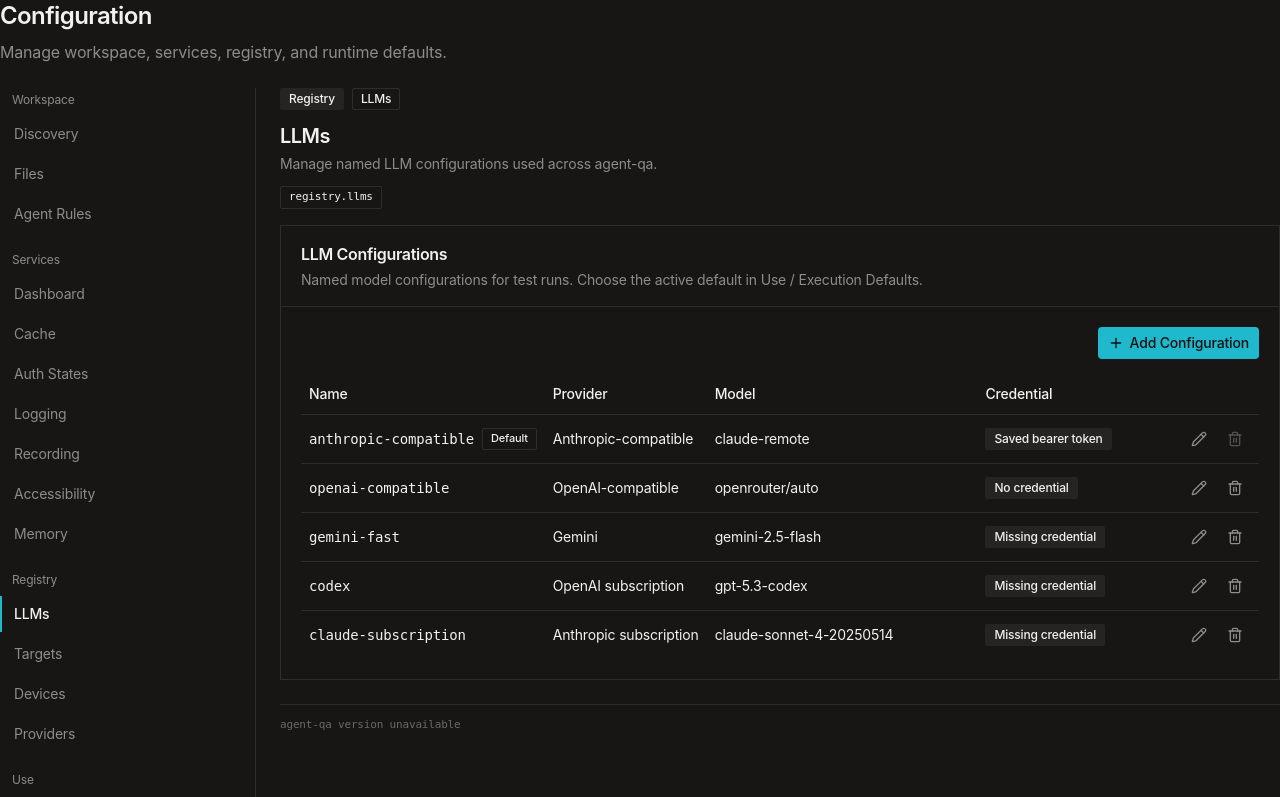
Test: ConfigPage schema coverage › confirms credential deletion before deleting
The image size is (1280, 797).
Check: the row that starts with "anthropic-compatible" is shown, box [301,414,1259,464]
Click the button titled "Edit configuration" in the row of "claude-remote".
click(1199, 439)  # box [1183,423,1215,455]
(page scrolled)
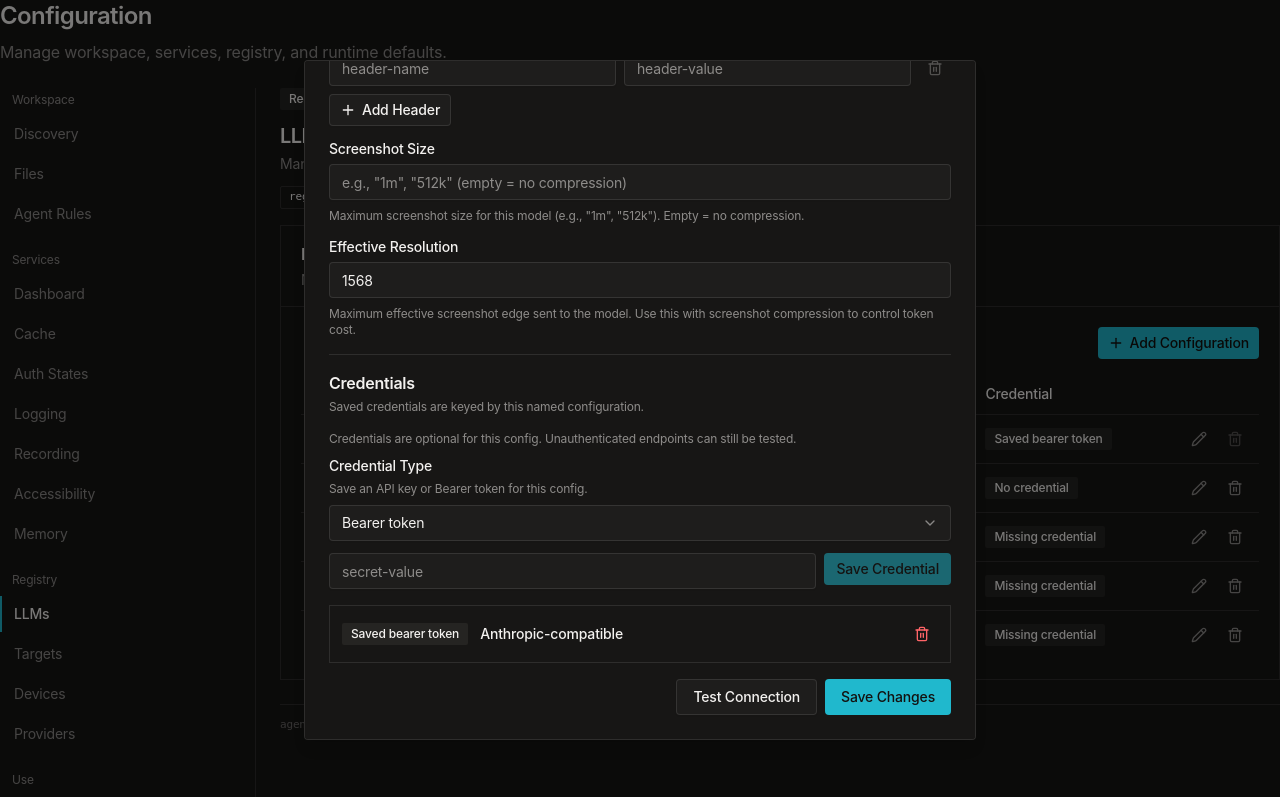
Check: the button named "Delete credential" is shown
Click the button named "Delete credential".
click(922, 634)  # box [906,618,938,650]
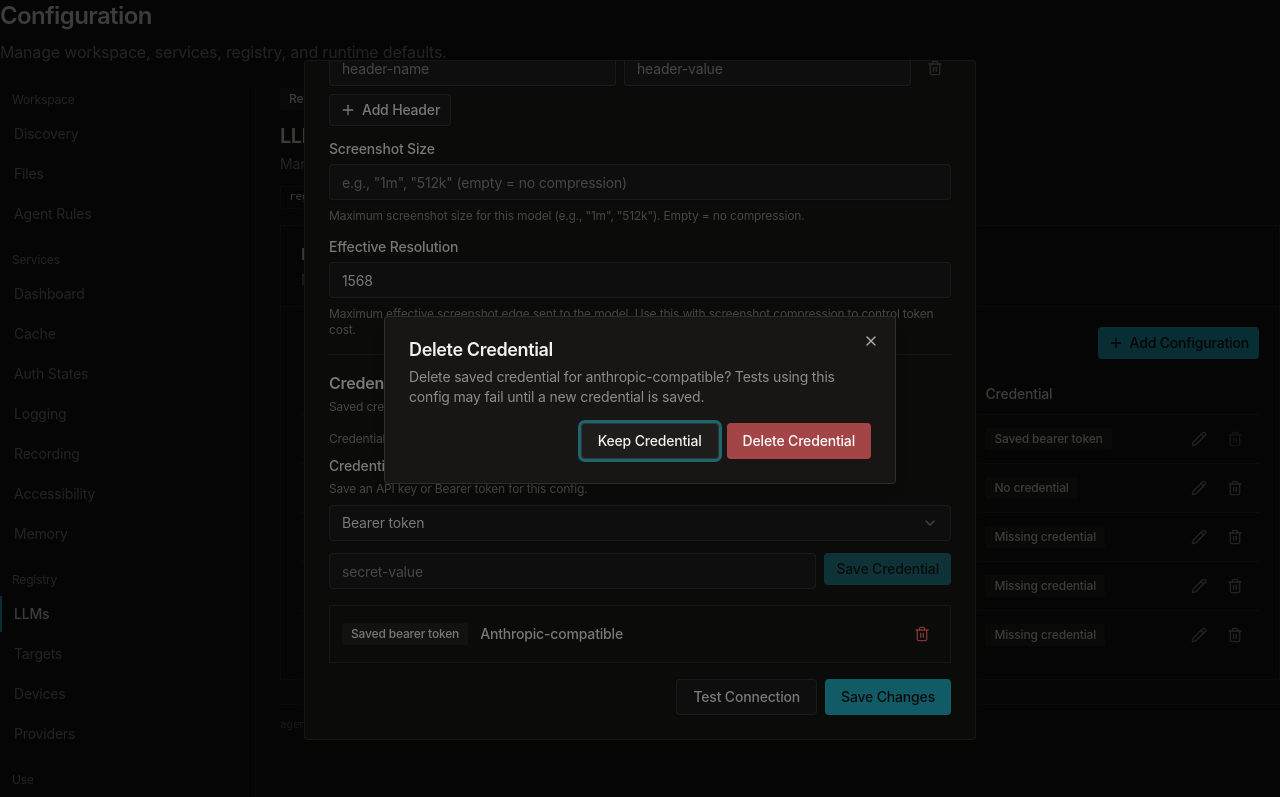
Check: the text "Delete saved credential for anthropic-compatible? Tests using this config may fail until a new credential is saved." is shown, box [409,367,871,407]
Check: the text "Keep Credential" is shown, box [581,423,719,459]
Check: the text "Delete Credential" is shown, box [409,339,553,360]
